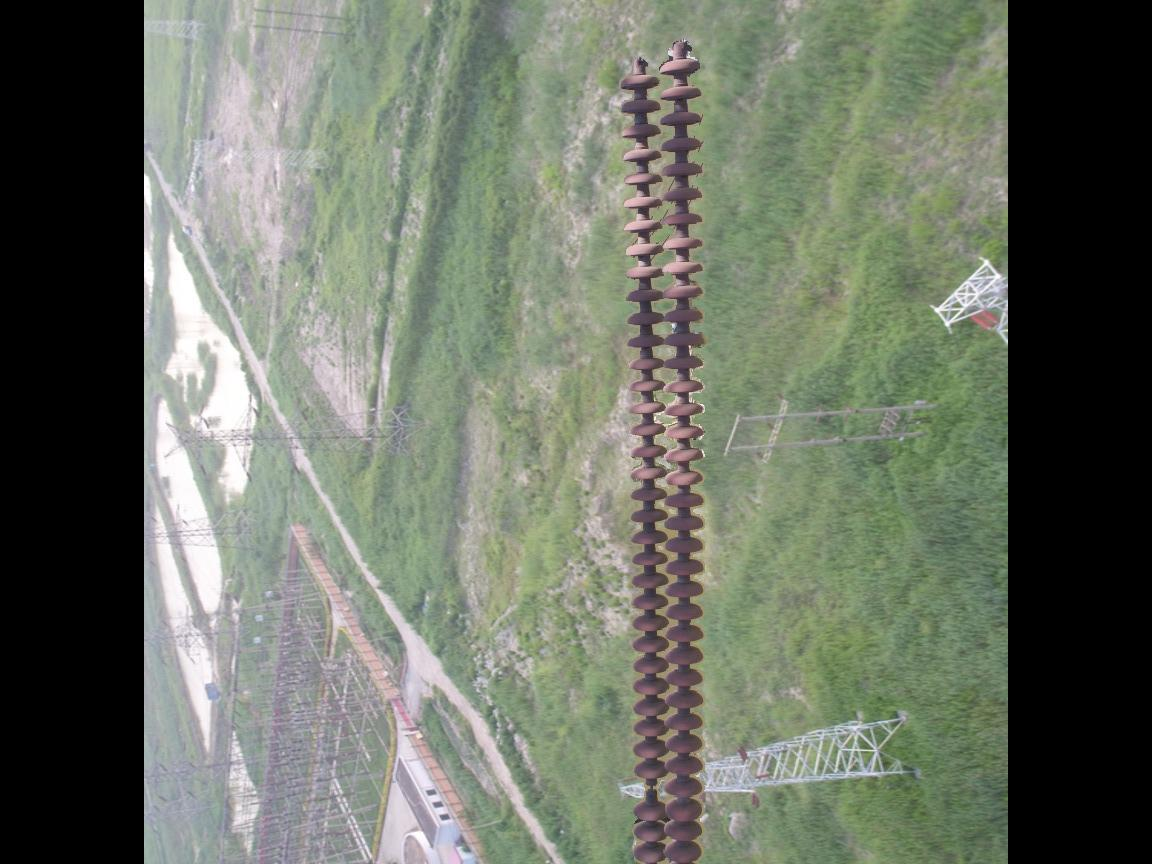insulator: (616, 49, 711, 864)
insulator_stringdrop: (631, 759, 670, 825)
